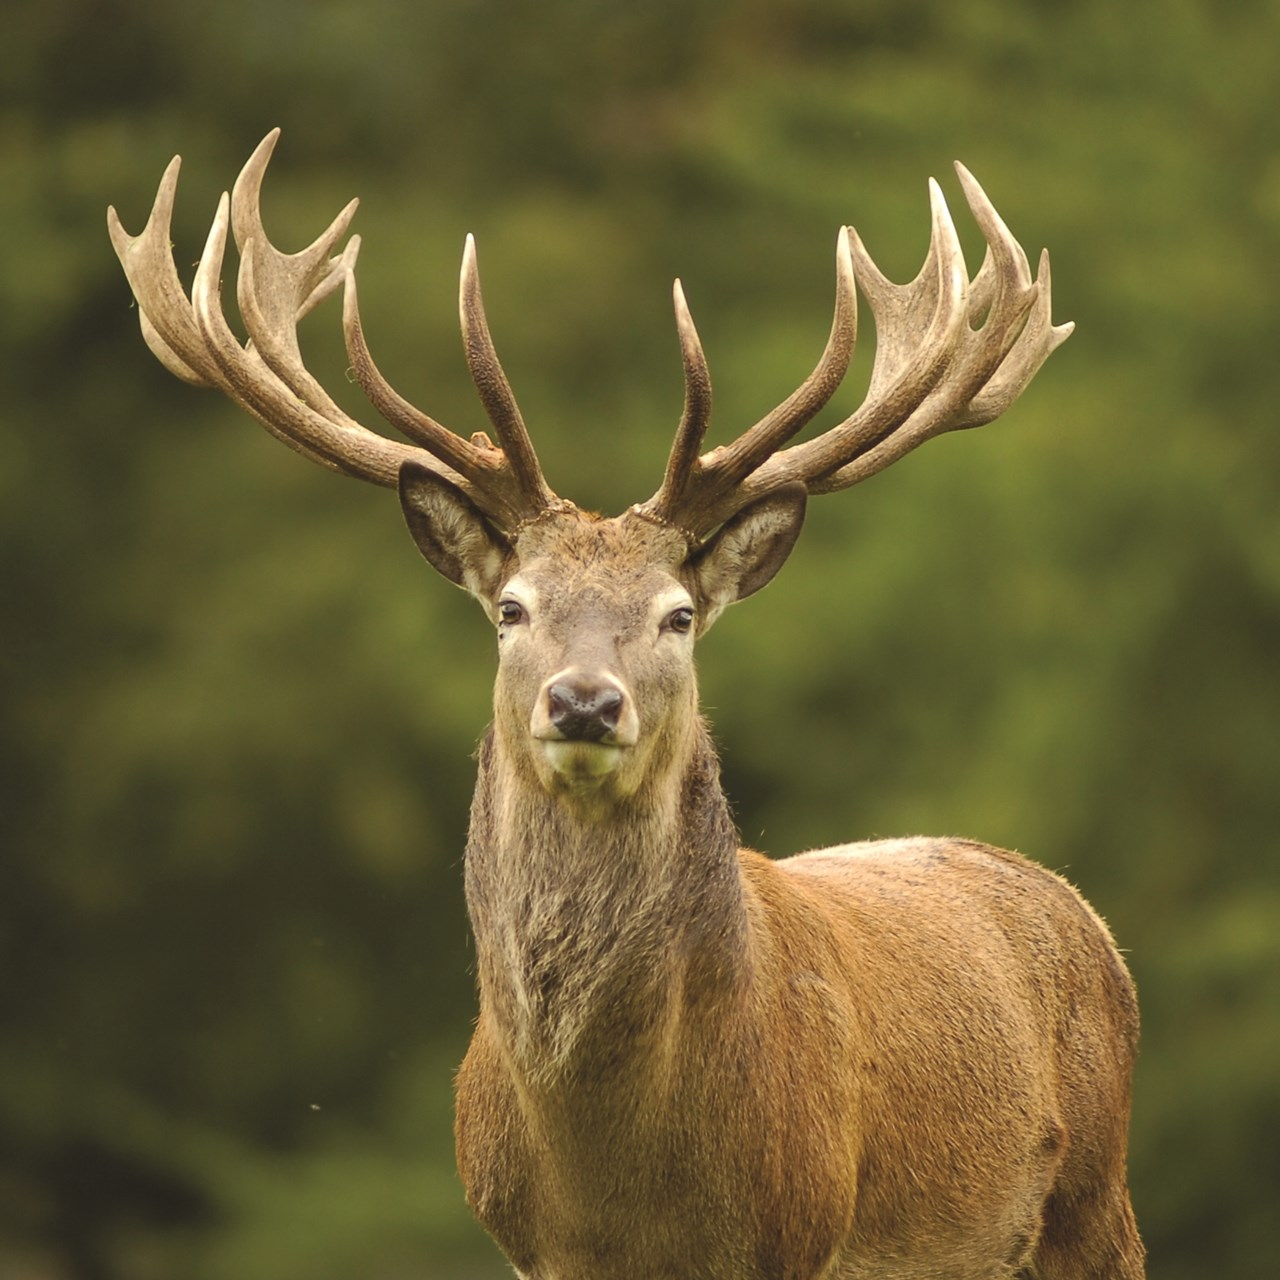Deer: (105, 124, 1145, 1280)
